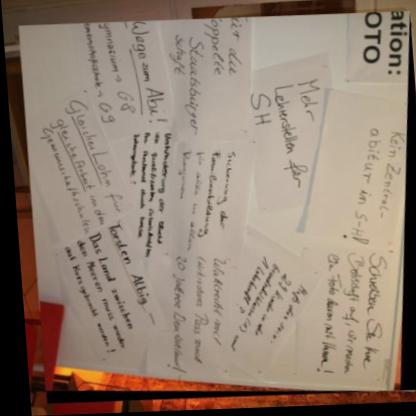Handwritten text: (58, 93, 127, 224), (43, 110, 107, 232), (27, 124, 93, 241), (68, 236, 128, 356), (52, 240, 111, 354), (79, 230, 137, 337), (262, 82, 310, 194), (96, 218, 152, 313), (340, 123, 382, 249), (349, 252, 390, 375), (329, 246, 362, 380), (310, 248, 340, 372), (258, 282, 310, 350), (371, 130, 407, 219), (180, 256, 207, 372), (233, 261, 281, 325), (177, 148, 204, 257), (138, 130, 160, 261), (150, 131, 174, 248), (200, 257, 229, 352), (160, 273, 186, 375), (178, 36, 204, 138), (192, 149, 219, 244), (239, 288, 284, 344), (209, 148, 235, 235), (130, 131, 150, 241), (126, 21, 157, 89), (93, 21, 123, 78), (229, 262, 263, 311), (200, 20, 224, 81), (168, 148, 191, 207), (243, 93, 272, 133), (138, 84, 170, 120), (163, 32, 185, 80), (295, 79, 323, 113), (123, 131, 139, 180), (224, 47, 246, 81), (92, 101, 114, 128), (112, 89, 136, 104)
